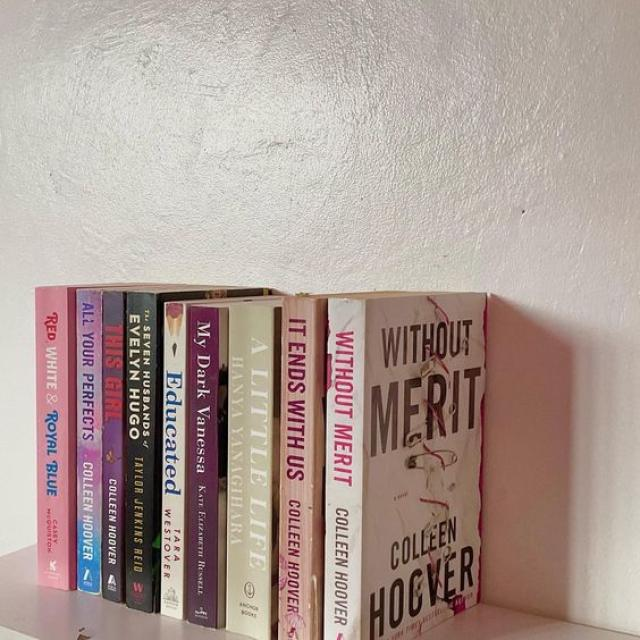book: (225, 303, 275, 639), (278, 297, 323, 639), (323, 300, 364, 639), (36, 288, 76, 589), (186, 305, 222, 626), (125, 293, 157, 612), (160, 303, 186, 620), (77, 290, 103, 593), (101, 294, 125, 601)
